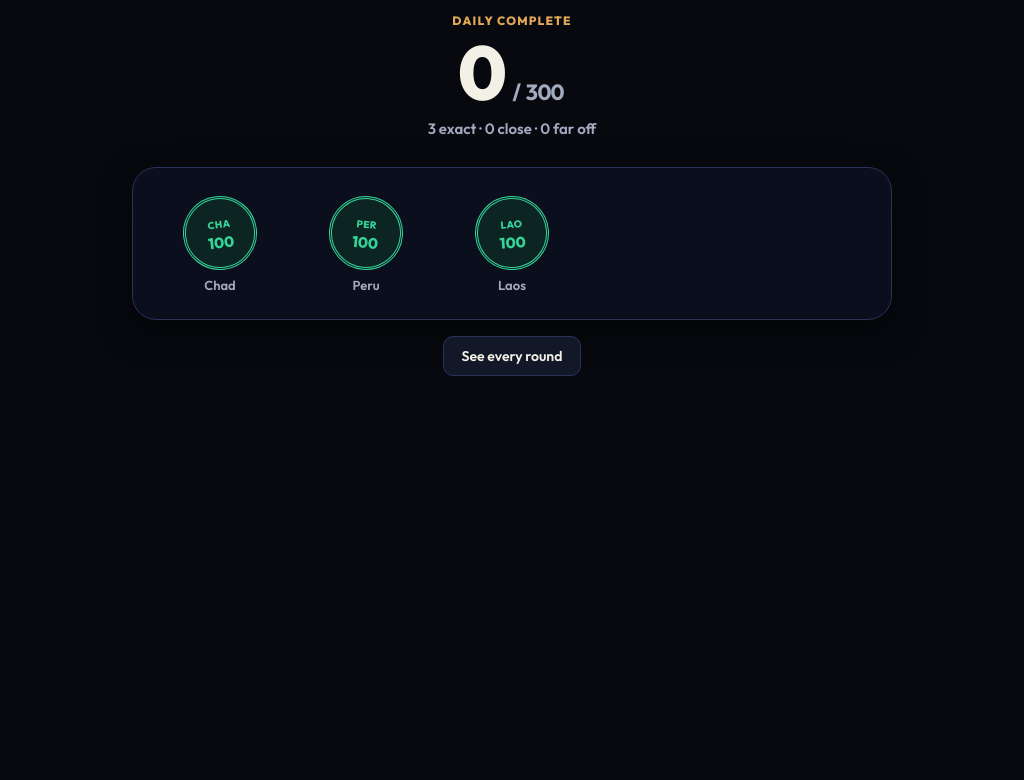
Test case: AnyGuessr results, round review › opens the review at the stamp that was tapped
The width and height of the screenshot is (1024, 780).
Step 1. Click the tab "Lao 100 Laos" → (512, 245), box [443,190,581,301]
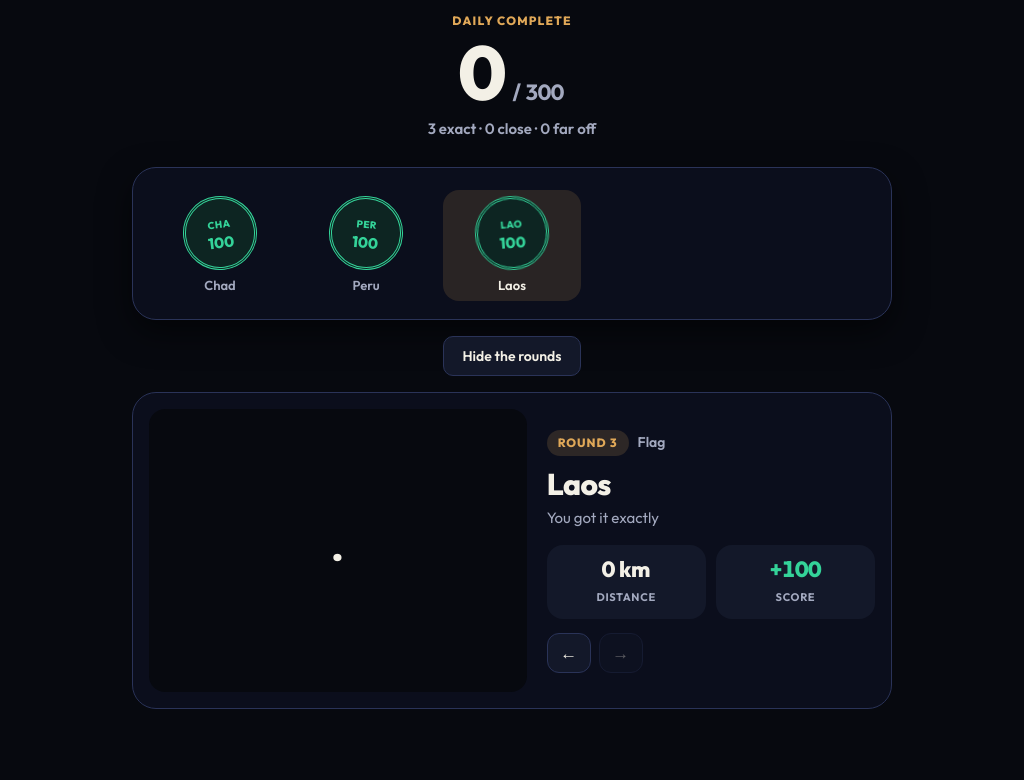
Expected: the panel shows "Round 3", [132,392,892,709]
Note: Moving between rounds once it is open is not another open.
Step 2. Click the tab "Cha 100 Chad" → (220, 245), box [151,190,289,301]
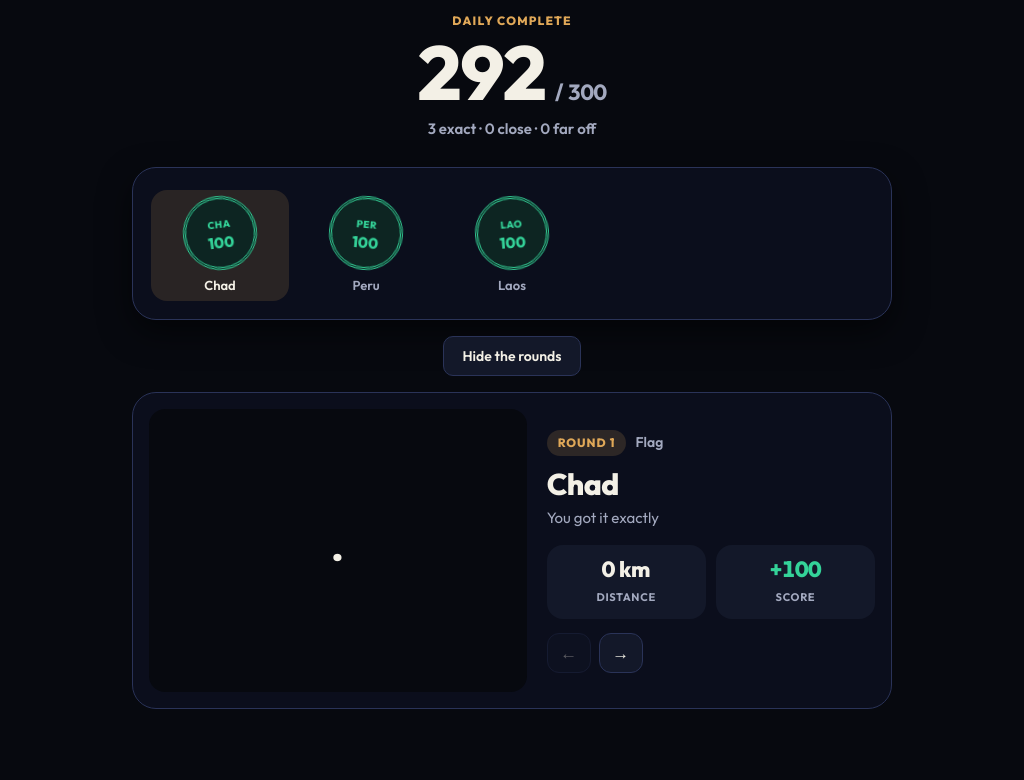
Expected: the panel shows "Round 1", [132,392,892,709]
